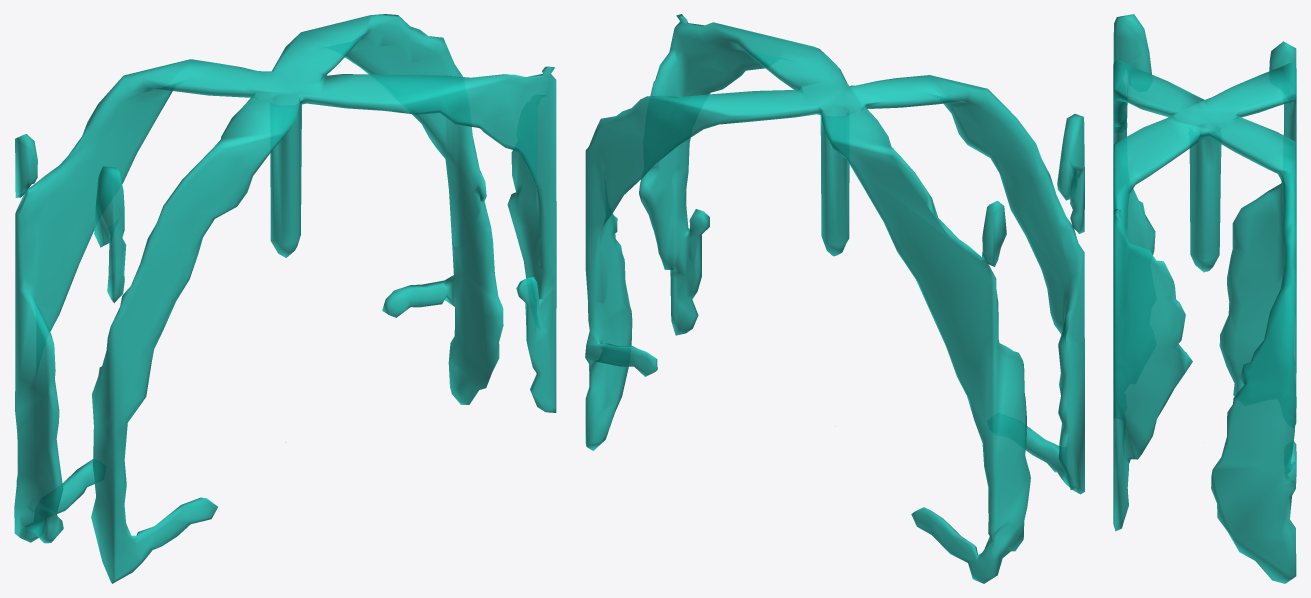
3 views of the same model, side by side, from view 1: azimuth 30°, elevation 25°; view 2: azimuth 150°, elevation 25°; view 3: azimuth 270°, elevation 25° (orthographic). The views are drawn at different scales.
Parts seen in each view (by area): view 1: Liquid_Domain; view 2: Liquid_Domain; view 3: Liquid_Domain.
Boxes of the visible parts, x1,y1,x2,y2 form: Liquid_Domain: (14, 14, 556, 583); Liquid_Domain: (585, 14, 1084, 583); Liquid_Domain: (1113, 14, 1296, 583).
Bounding box in the file's own units: 884 × 841 × 344.
